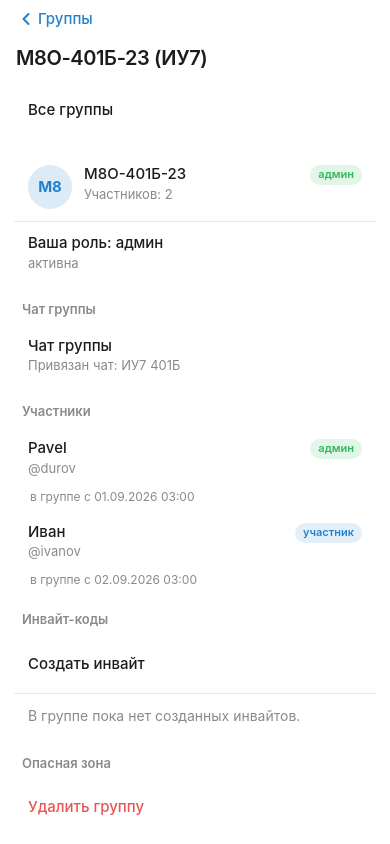
Test: GroupDetailScreen: админские действия над участниками › 409 «последний админ» показывается видимой ошибкой, а не молчанием
Click the button "Иван @ivanov участник" at (47, 531), box [14,511,376,572]
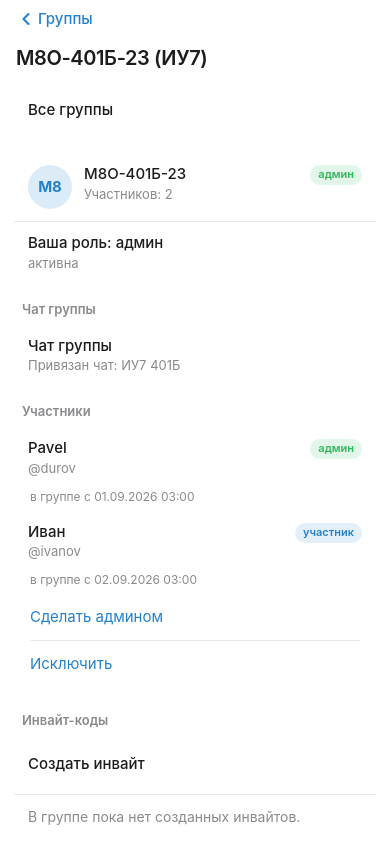
Click the button with test id "promote-2" at (96, 617), box [30,594,360,641]
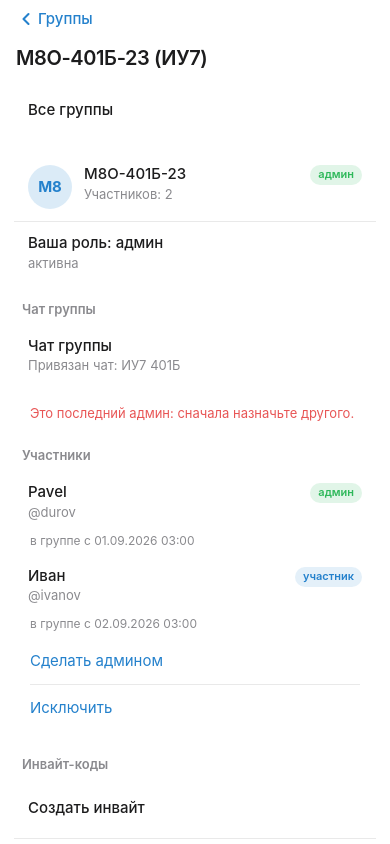
Expected: the message with test id "action-error" shows "последний админ", [30,405,354,421]
